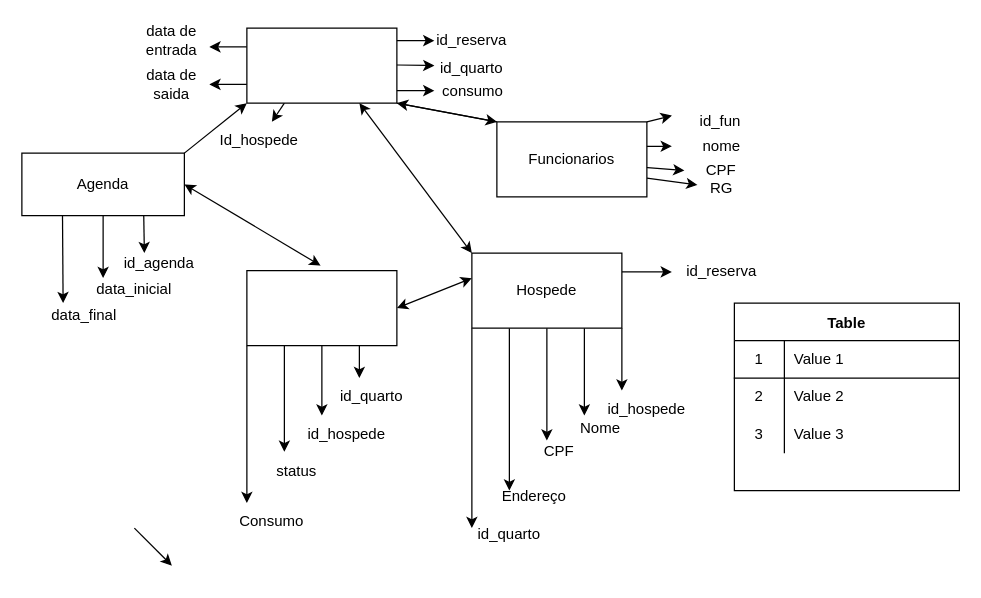
Image size: 981x598. Some labels were removed from this diagram. Each missing label, with the centre of its shape:
Quarto: the point at 321,307
Reserva: the point at 321,65
